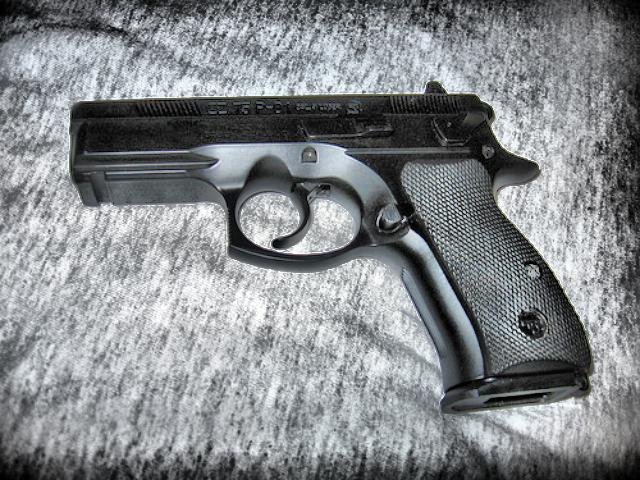pistol: (68, 80, 590, 398)
